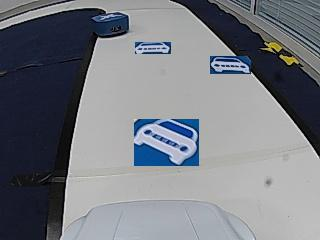prop: (92, 13, 128, 37)
